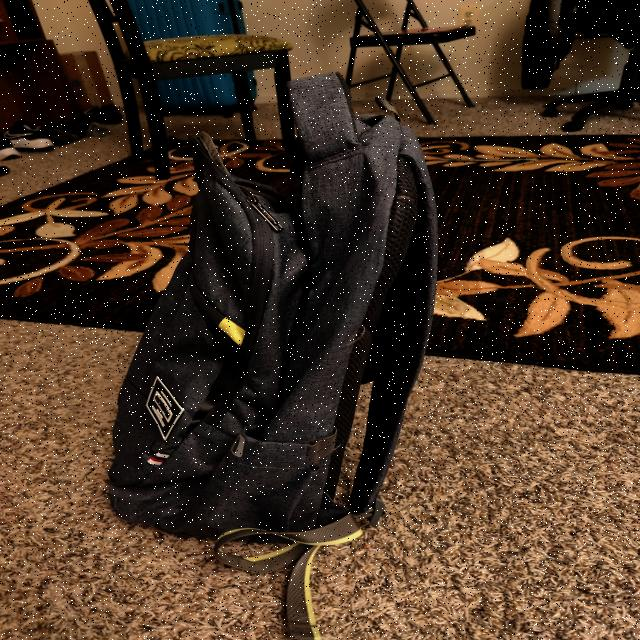bag: (106, 71, 438, 565)
